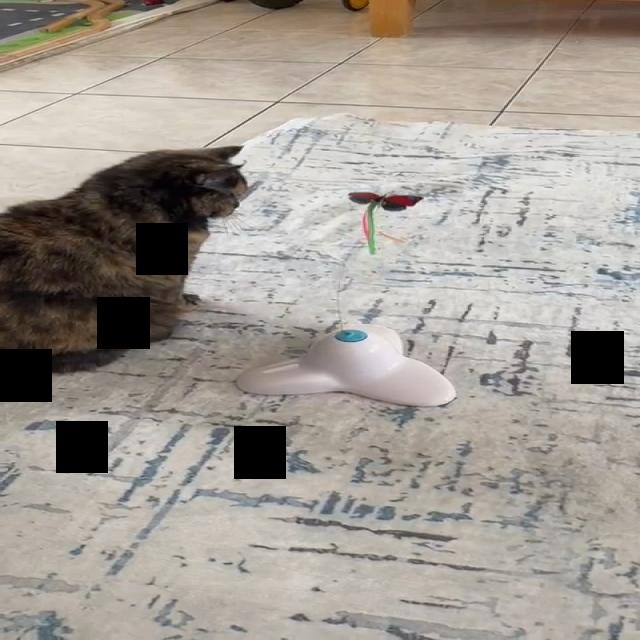authorized: (0, 144, 249, 373)
